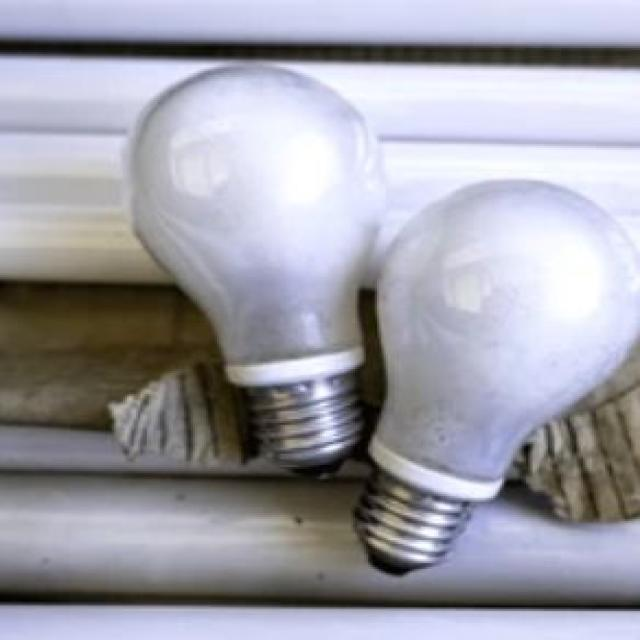electronic: (118, 58, 638, 576), (350, 175, 638, 575), (120, 60, 388, 472)
